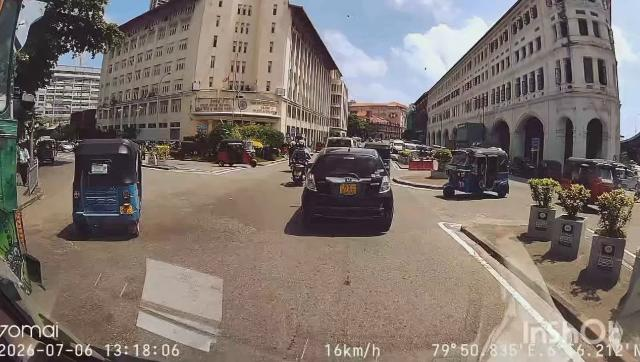number plate: (337, 181, 362, 204), (118, 203, 138, 224)
